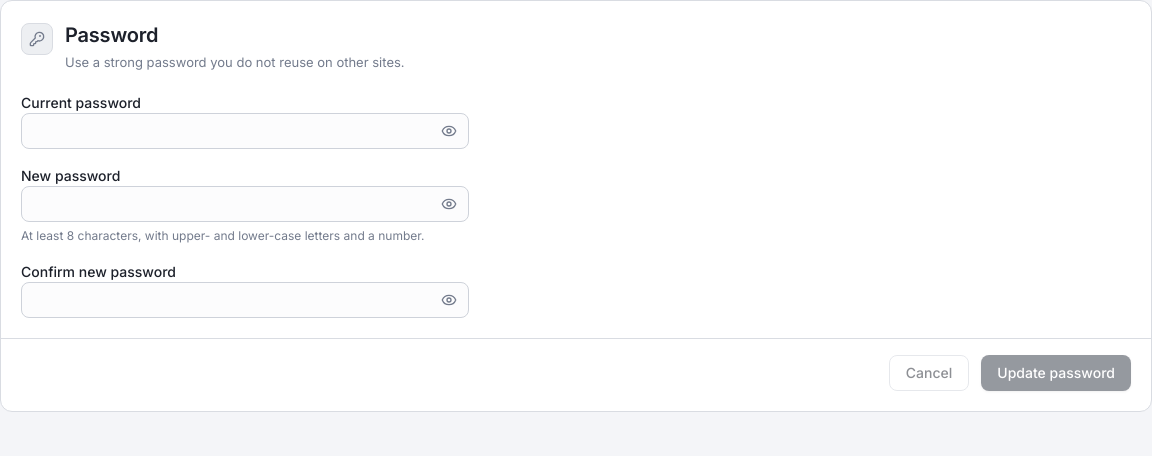
Test: ChangePasswordForm › rejects a confirmation that does not match the new password
Type "OldPass123" into the password field labelled "Current password". click: (245, 131)
box: [21,113,469,149]
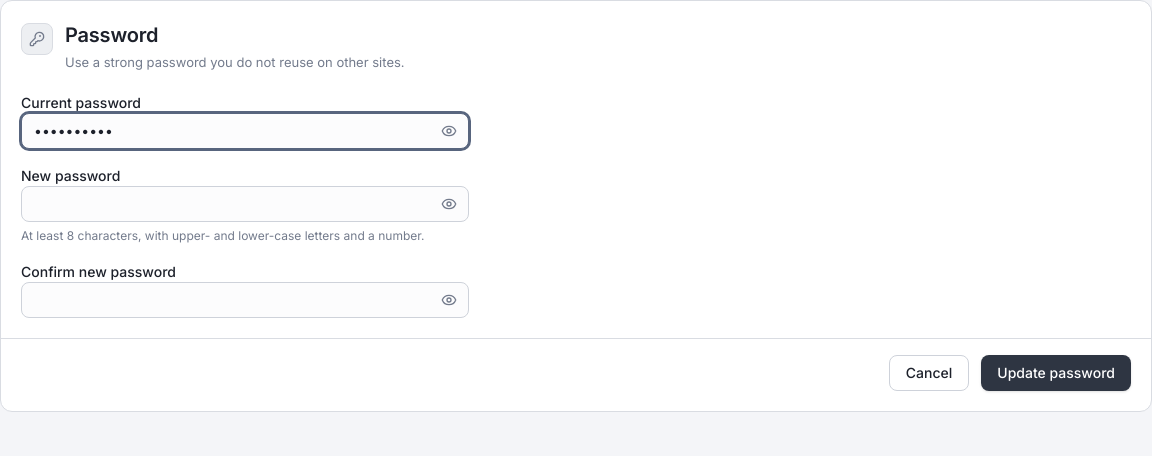
Type "NewPass123" into the password field labelled "New password". click: (245, 204)
box: [21,186,469,222]
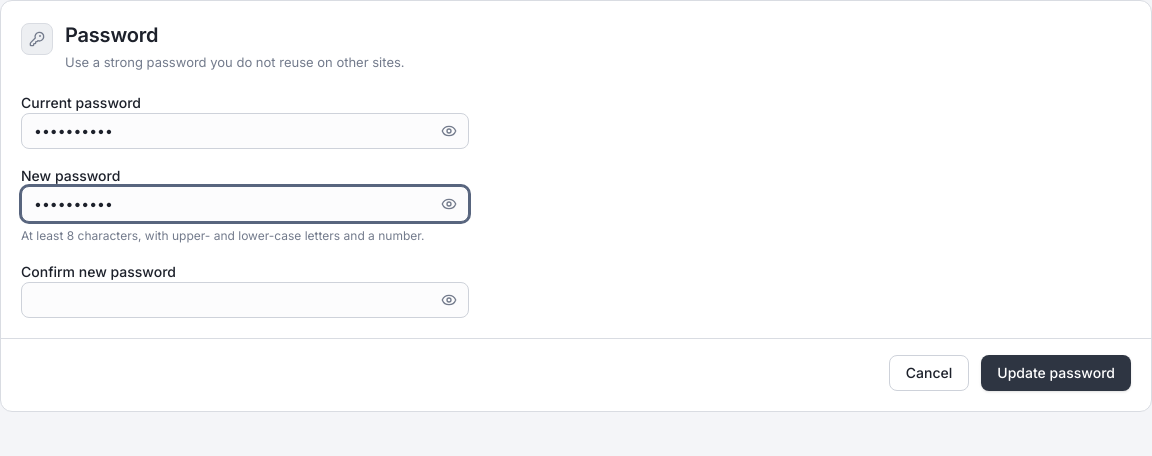
Type "NewPass124" into the password field labelled "Confirm new password". click: (245, 300)
box: [21,282,469,318]
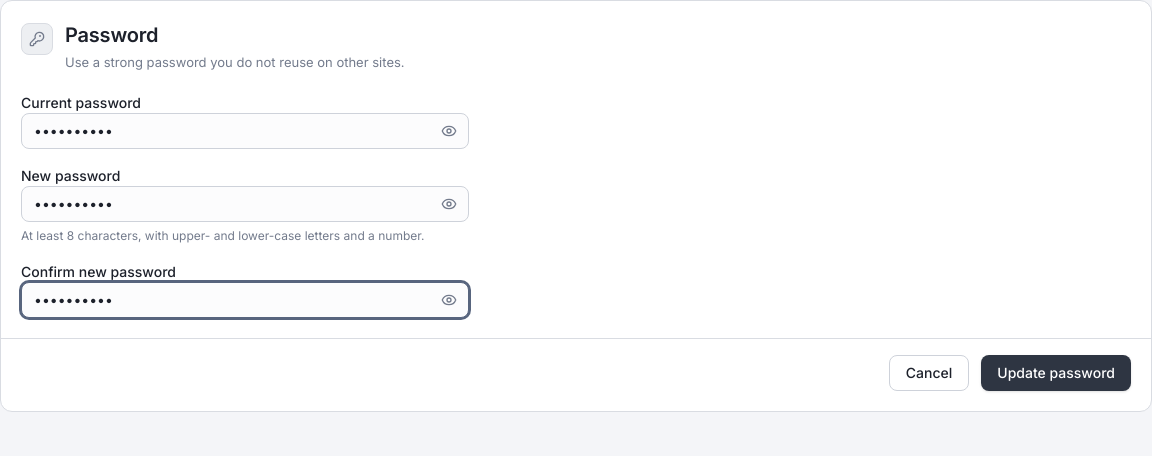
Click the button "Update password". click: (1056, 373)
box: [981,355,1131,391]
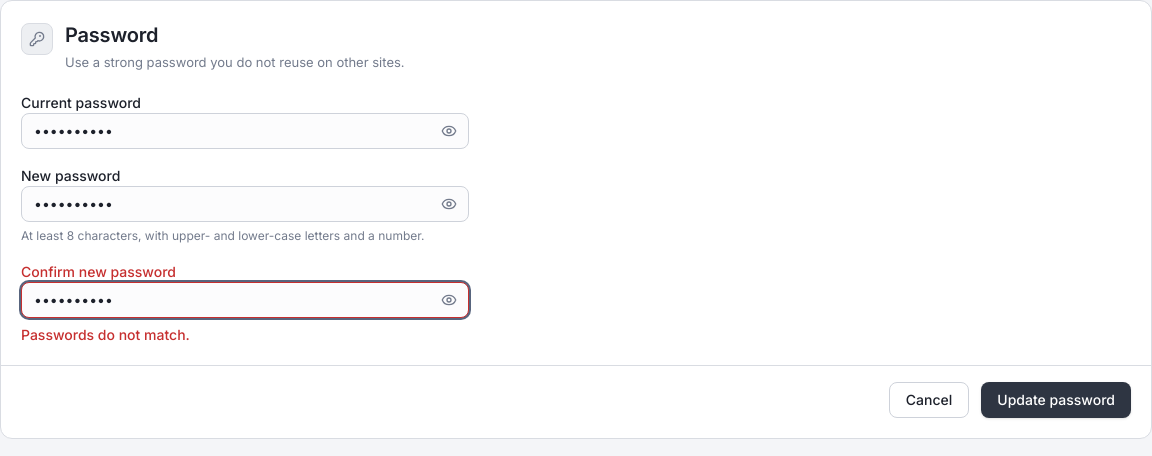
Expected: the text "Passwords do not match." is shown, [21,326,190,343]
